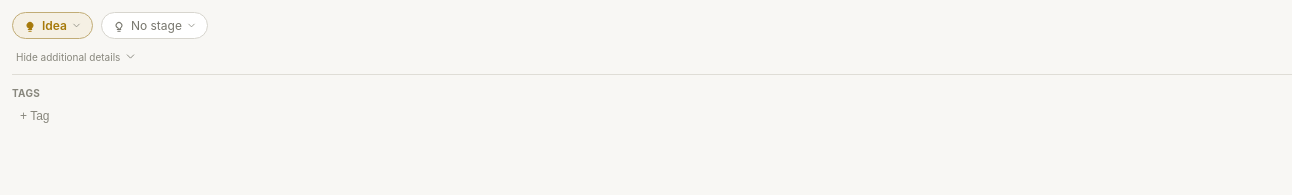
the type pill › offers only the targets the type converts to, plus itself
The width and height of the screenshot is (1292, 195).
Note: Idea promotes to task or note — not to inbox or bookmark.
Click the button with aria-label "promote" at (52,26), box [12,12,93,39]
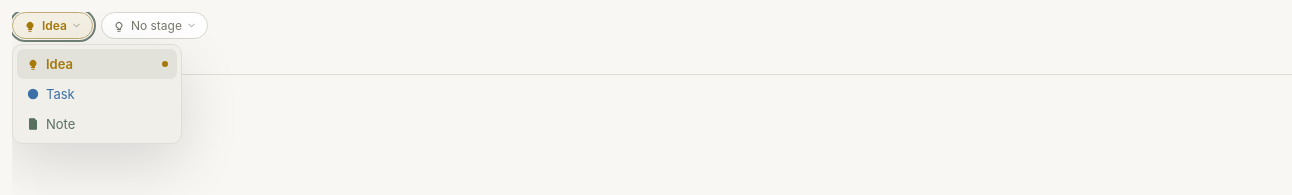
Check: the options read "Idea", "Task", "Note", in this order, box [17,49,177,79]; [17,79,177,109]; [17,109,177,139]
